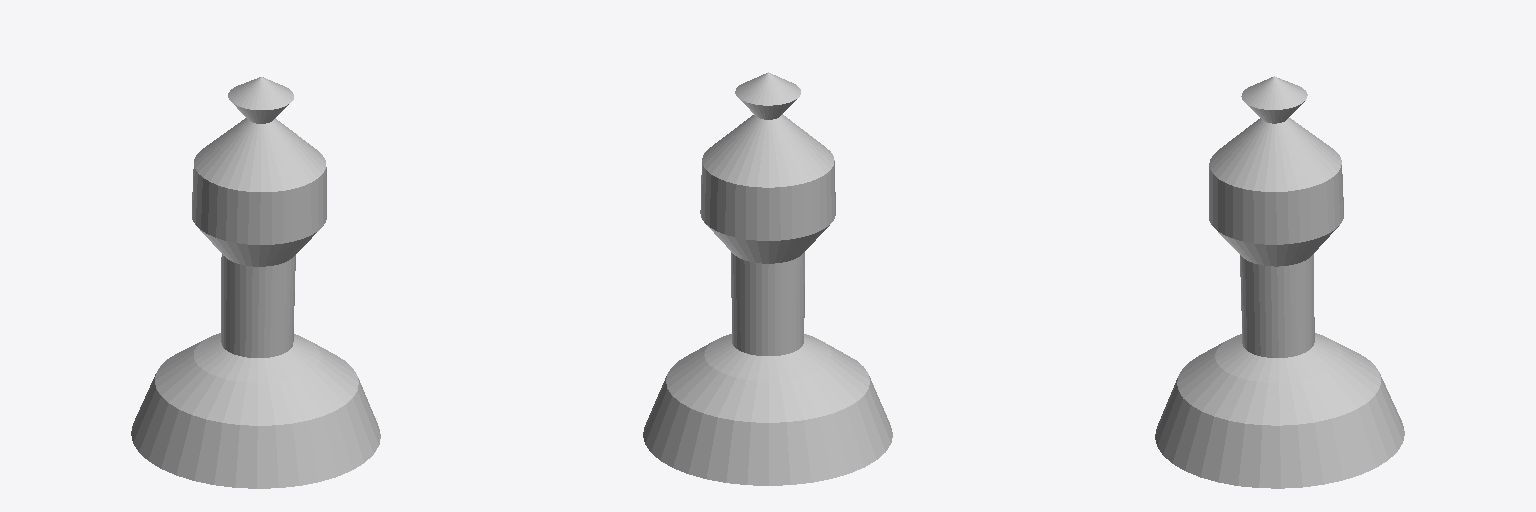
Rendered from blackbishop.obj.
The picture shows the model from 3 angles: view 1: azimuth 30°, elevation 25°; view 2: azimuth 150°, elevation 25°; view 3: azimuth 270°, elevation 25°; orthographic projection.
Parts seen in each view (by area): view 1: Cube; view 2: Cube; view 3: Cube.
Part boxes in pixels (x1,y1,x2,y2): Cube: (131, 77, 380, 488); Cube: (643, 72, 892, 485); Cube: (1155, 76, 1404, 488).
Size of the model in its own units: 2.42 by 3.86 by 2.42.